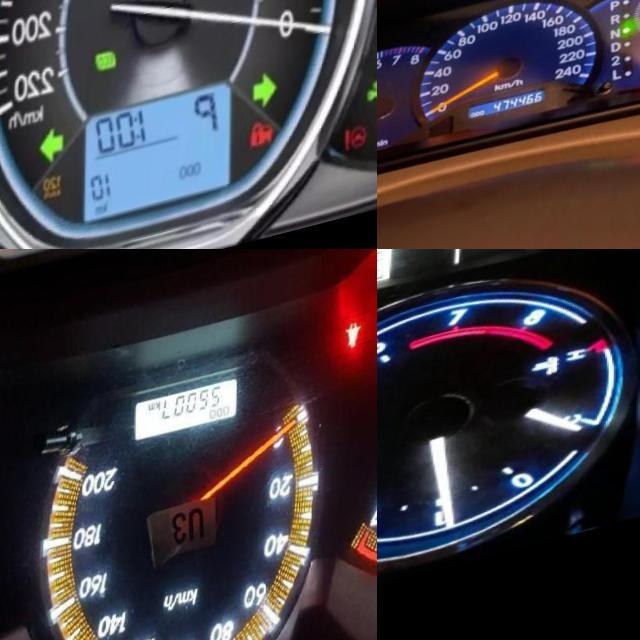Electronic Power Steering: (346, 150, 369, 178)
Seat Belt: (345, 341, 362, 371)
